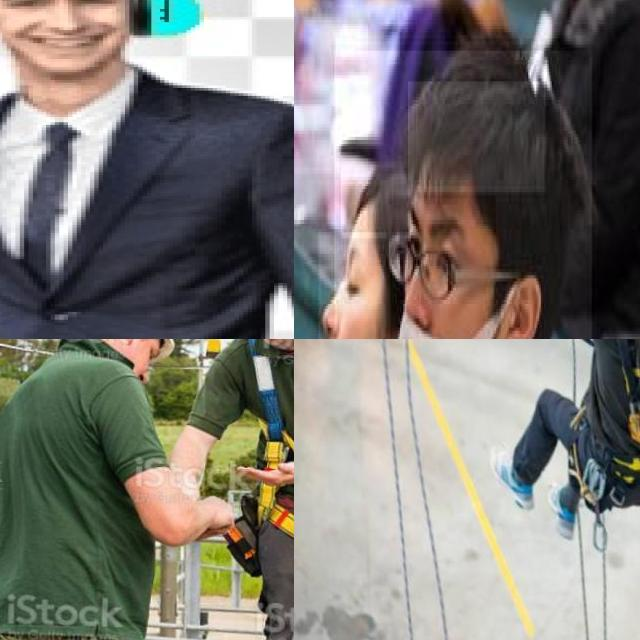Harness: (249, 339, 294, 539), (617, 339, 640, 449)
No_Ear-Protection: (503, 265, 546, 339), (132, 0, 198, 35)
No_Glasses: (0, 0, 120, 23)
face_mask: (390, 195, 495, 339)
face_nomask: (0, 7, 126, 79), (318, 232, 385, 339)
glasses: (386, 228, 457, 304)
head_nohelmet: (408, 81, 547, 196), (341, 174, 414, 241)
person: (334, 51, 593, 339)
